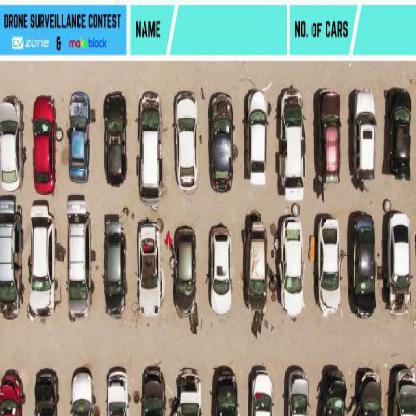car: (243, 211, 267, 337), (68, 195, 92, 320), (348, 212, 376, 316), (281, 90, 304, 207), (208, 95, 235, 194), (387, 202, 411, 312), (138, 93, 161, 204), (386, 87, 412, 180), (174, 94, 198, 194), (174, 228, 198, 327), (246, 91, 270, 186), (103, 215, 125, 317), (33, 98, 56, 194), (0, 99, 23, 193), (282, 217, 303, 319), (319, 217, 341, 313), (139, 221, 161, 317), (354, 89, 376, 183), (105, 94, 127, 186), (210, 222, 231, 318), (69, 95, 91, 183), (350, 368, 384, 416), (317, 366, 349, 415), (211, 367, 242, 415), (387, 365, 415, 415), (173, 369, 203, 415), (70, 367, 98, 415), (284, 368, 312, 415), (140, 367, 167, 415), (34, 371, 63, 415), (249, 367, 275, 415), (106, 368, 130, 414), (399, 386, 415, 415)
